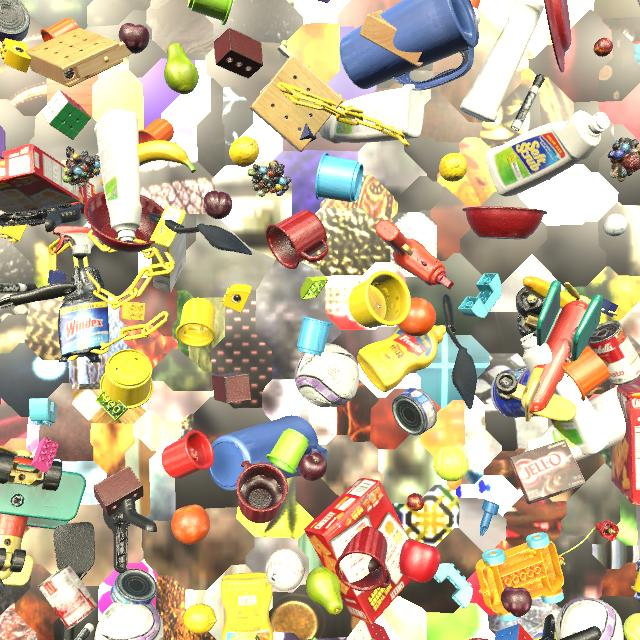ycb_002_master_chef_can: (490, 367, 538, 418)
ycb_003_cracker_box: (304, 478, 411, 625), (0, 144, 95, 227), (610, 378, 640, 505)
ycb_004_sugar_box: (150, 205, 186, 293)
ycb_005_tomato_soup_can: (38, 564, 98, 630), (587, 320, 640, 385)
ycb_006_mustard_bottle: (357, 325, 446, 392), (221, 572, 273, 640)
ycb_007_tuna_fish_can: (392, 388, 437, 435), (110, 568, 157, 605), (0, 0, 30, 42)
ycb_008_pudding_box: (510, 439, 586, 504)
ycb_011_banana: (100, 140, 196, 186), (523, 276, 576, 307), (311, 636, 317, 640)
ycb_013_apple: (399, 539, 441, 583), (0, 397, 1, 405)
ycb_014_lemon: (183, 604, 217, 634), (229, 136, 259, 167), (439, 153, 468, 182), (0, 639, 2, 640)
ycb_016_pear: (306, 566, 343, 615), (164, 43, 199, 94)
ycb_017_orange: (171, 505, 210, 545), (398, 298, 436, 337)
ycb_018_plum: (119, 23, 150, 54), (501, 586, 532, 617), (298, 452, 327, 481), (203, 191, 232, 219)
